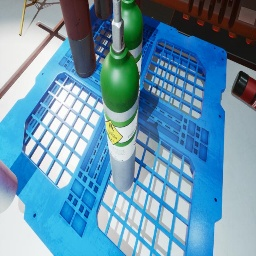0: (100, 0, 139, 192), (113, 0, 143, 134), (0, 159, 18, 214)
FireExtinguisher ]: (232, 71, 256, 109)
NitrogenTank ,: (59, 0, 96, 78), (94, 0, 112, 20), (88, 0, 92, 27), (135, 0, 141, 11)
